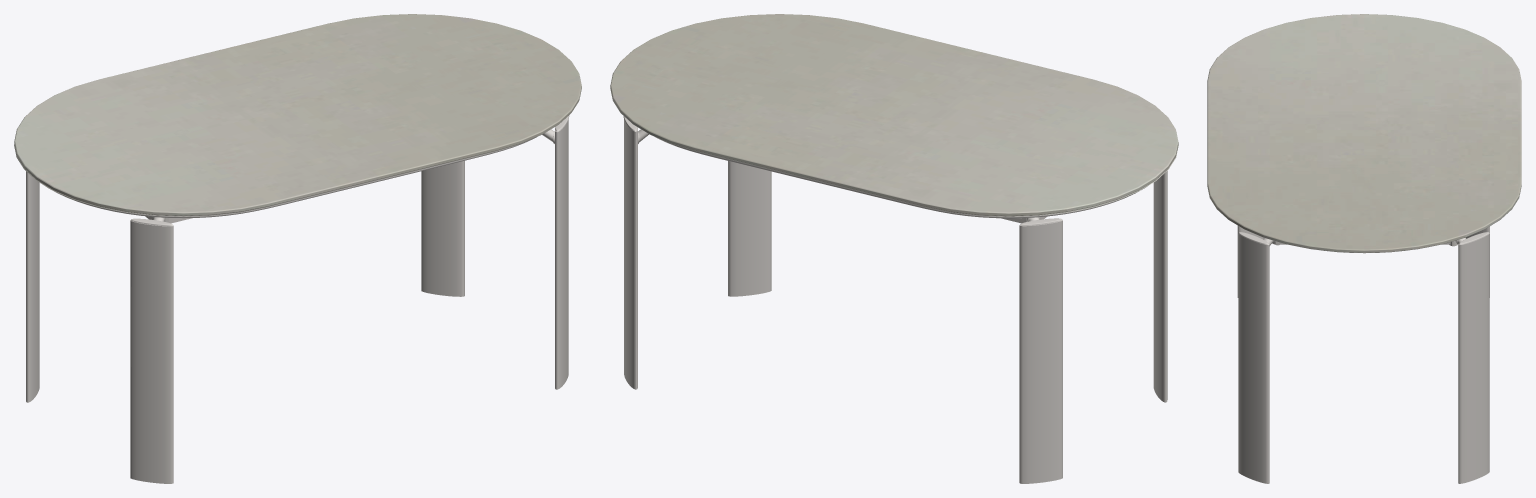
The model's file is BGID02451.glb.
The picture shows the model from 3 angles, left to right: view 1: azimuth 30°, elevation 25°; view 2: azimuth 150°, elevation 25°; view 3: azimuth 270°, elevation 25°; orthographic projection. The views are drawn at different scales.
Parts seen in each view (by area): view 1: BP_BGID02451; view 2: BP_BGID02451; view 3: BP_BGID02451.
Part boxes in pixels (x1,y1,x2,y2): BP_BGID02451: [14, 14, 581, 483]; BP_BGID02451: [610, 14, 1178, 483]; BP_BGID02451: [1207, 14, 1521, 483].
Bounding box in the file's own units: 1.48 × 0.7399 × 0.8312.
Materials: 3 (1 with a texture image).
